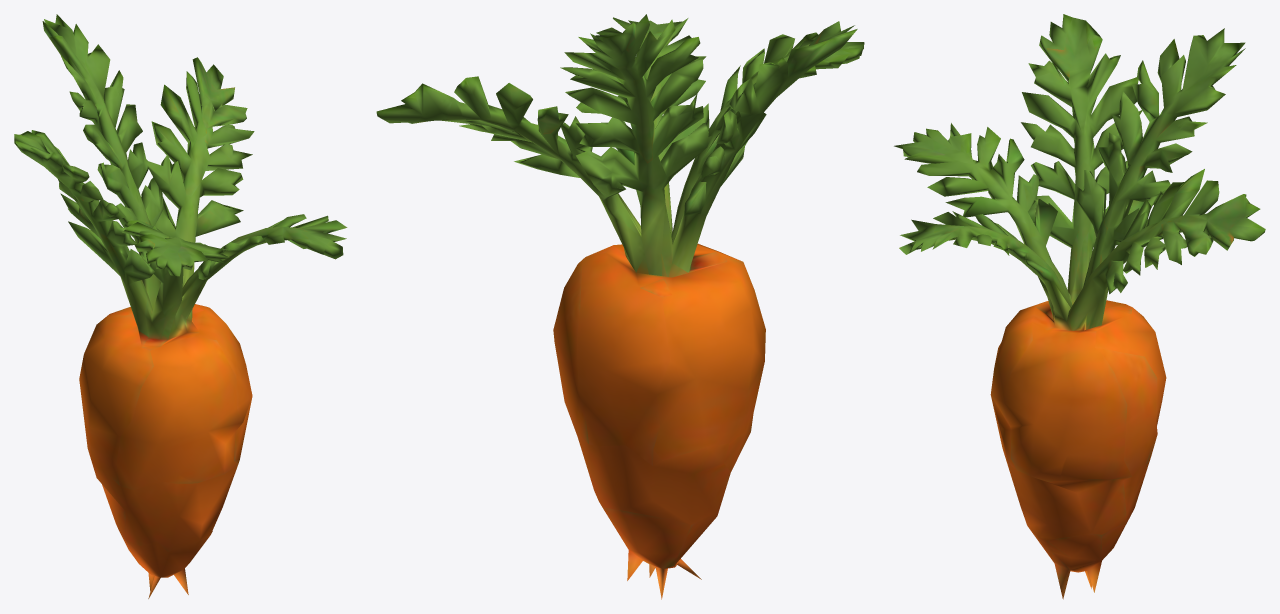
Rendered from carrot_l3.glb.
3 renders of one model, left to right at view 1: azimuth 30°, elevation 25°; view 2: azimuth 150°, elevation 25°; view 3: azimuth 270°, elevation 25°, orthographic. The views are drawn at different scales.
Visible parts, largest first — view 1: tripo_node_b251bc0d-c480-4494-8b14-11b0a0f4448c; view 2: tripo_node_b251bc0d-c480-4494-8b14-11b0a0f4448c; view 3: tripo_node_b251bc0d-c480-4494-8b14-11b0a0f4448c.
Boxes of the visible parts, x1,y1,x2,y2 form: tripo_node_b251bc0d-c480-4494-8b14-11b0a0f4448c: (14, 14, 347, 598); tripo_node_b251bc0d-c480-4494-8b14-11b0a0f4448c: (376, 14, 864, 599); tripo_node_b251bc0d-c480-4494-8b14-11b0a0f4448c: (894, 14, 1265, 599).
Bounding box in the file's own units: 0.5783 × 0.9782 × 0.6107.
1 material, 1 textured.
